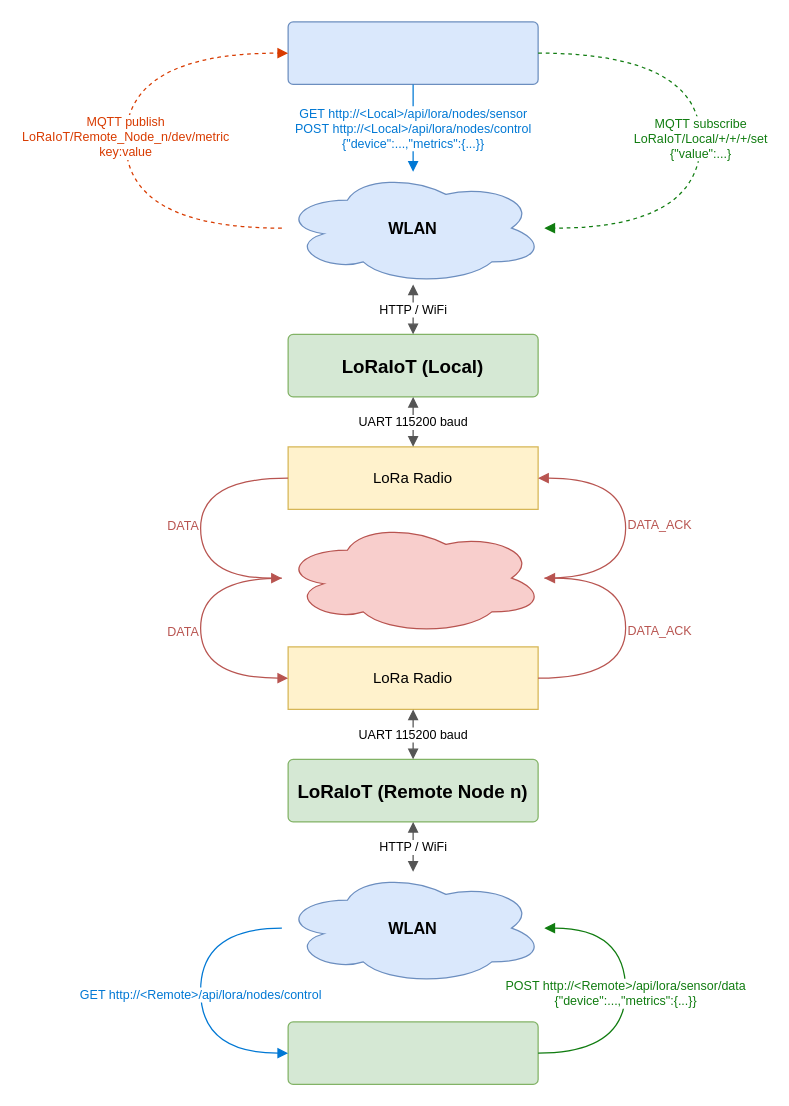
Some shapes in this 789 by 1106 pixel diagram are drawn without their labels. Each missing label, with the centre of its shape:
"Controller / MQTT" belongs at (x=412, y=52).
"IoT Device" belongs at (x=412, y=1052).
"LoRa" belongs at (x=412, y=577).
